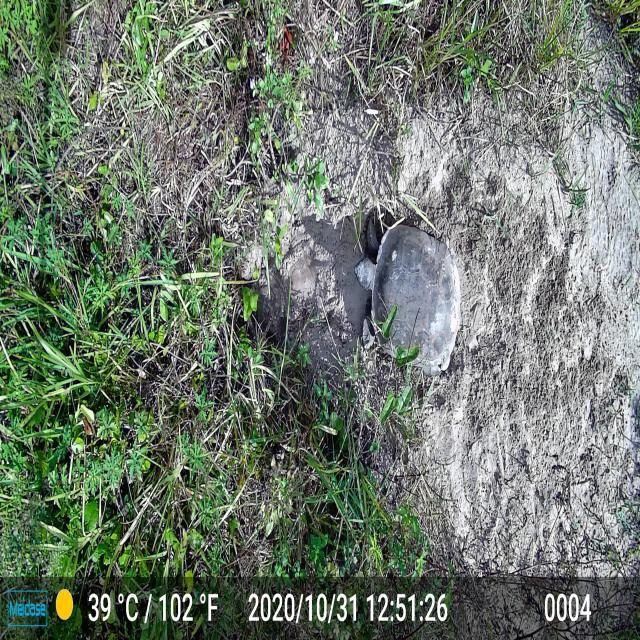tortoise: (353, 211, 464, 391)
